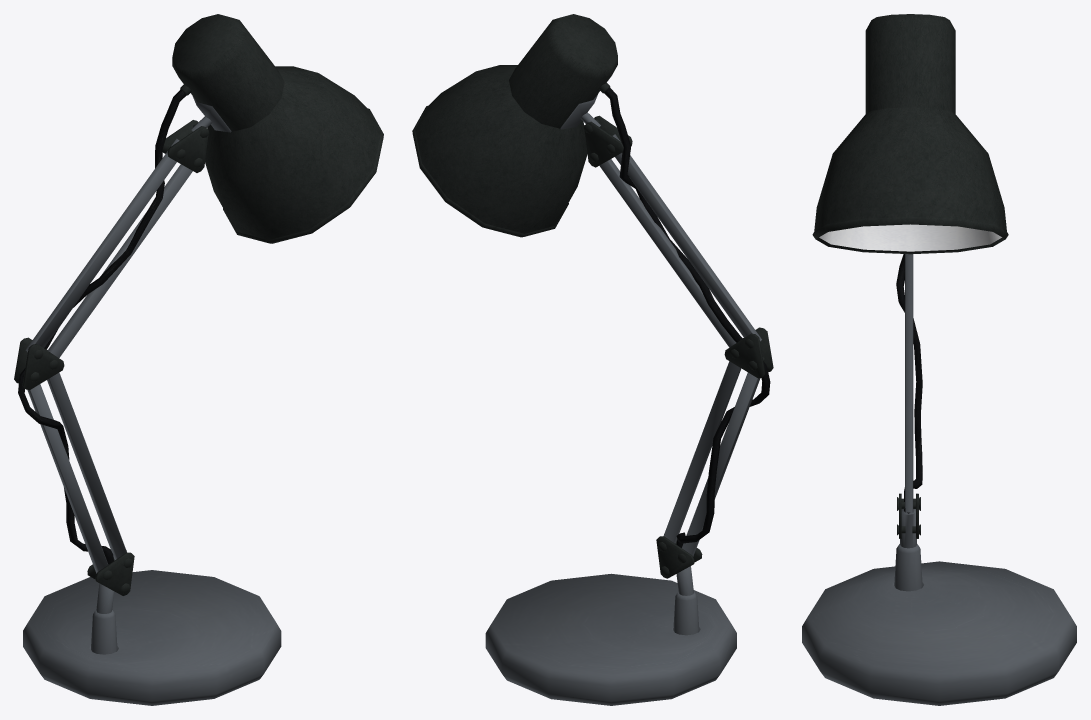
The model's file is Desk Lamp.fbx.
The picture shows the model from 3 angles, left to right: view 1: azimuth 30°, elevation 25°; view 2: azimuth 150°, elevation 25°; view 3: azimuth 270°, elevation 25°; orthographic projection. The views are drawn at different scales.
Visible parts, largest first — view 1: Plane.002; view 2: Plane.002; view 3: Plane.002.
Boxes of the visible parts, x1,y1,x2,y2 form: Plane.002: (14,14,383,705); Plane.002: (412,14,773,705); Plane.002: (802,14,1076,705).
Size of the model in its own units: 180 by 308 by 115.
